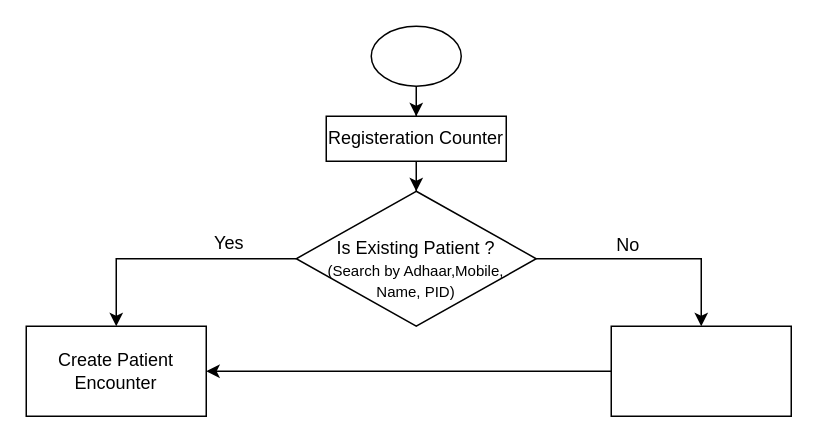
The diagram is 818 pixels wide and 443 high, and some of its shapes have lost their labels. Each missing label, with the centre of its shape:
"Patient Walks In" belongs at pixel 415 55.
"Register New Patient - PID created with other details" belongs at pixel 700 370.
